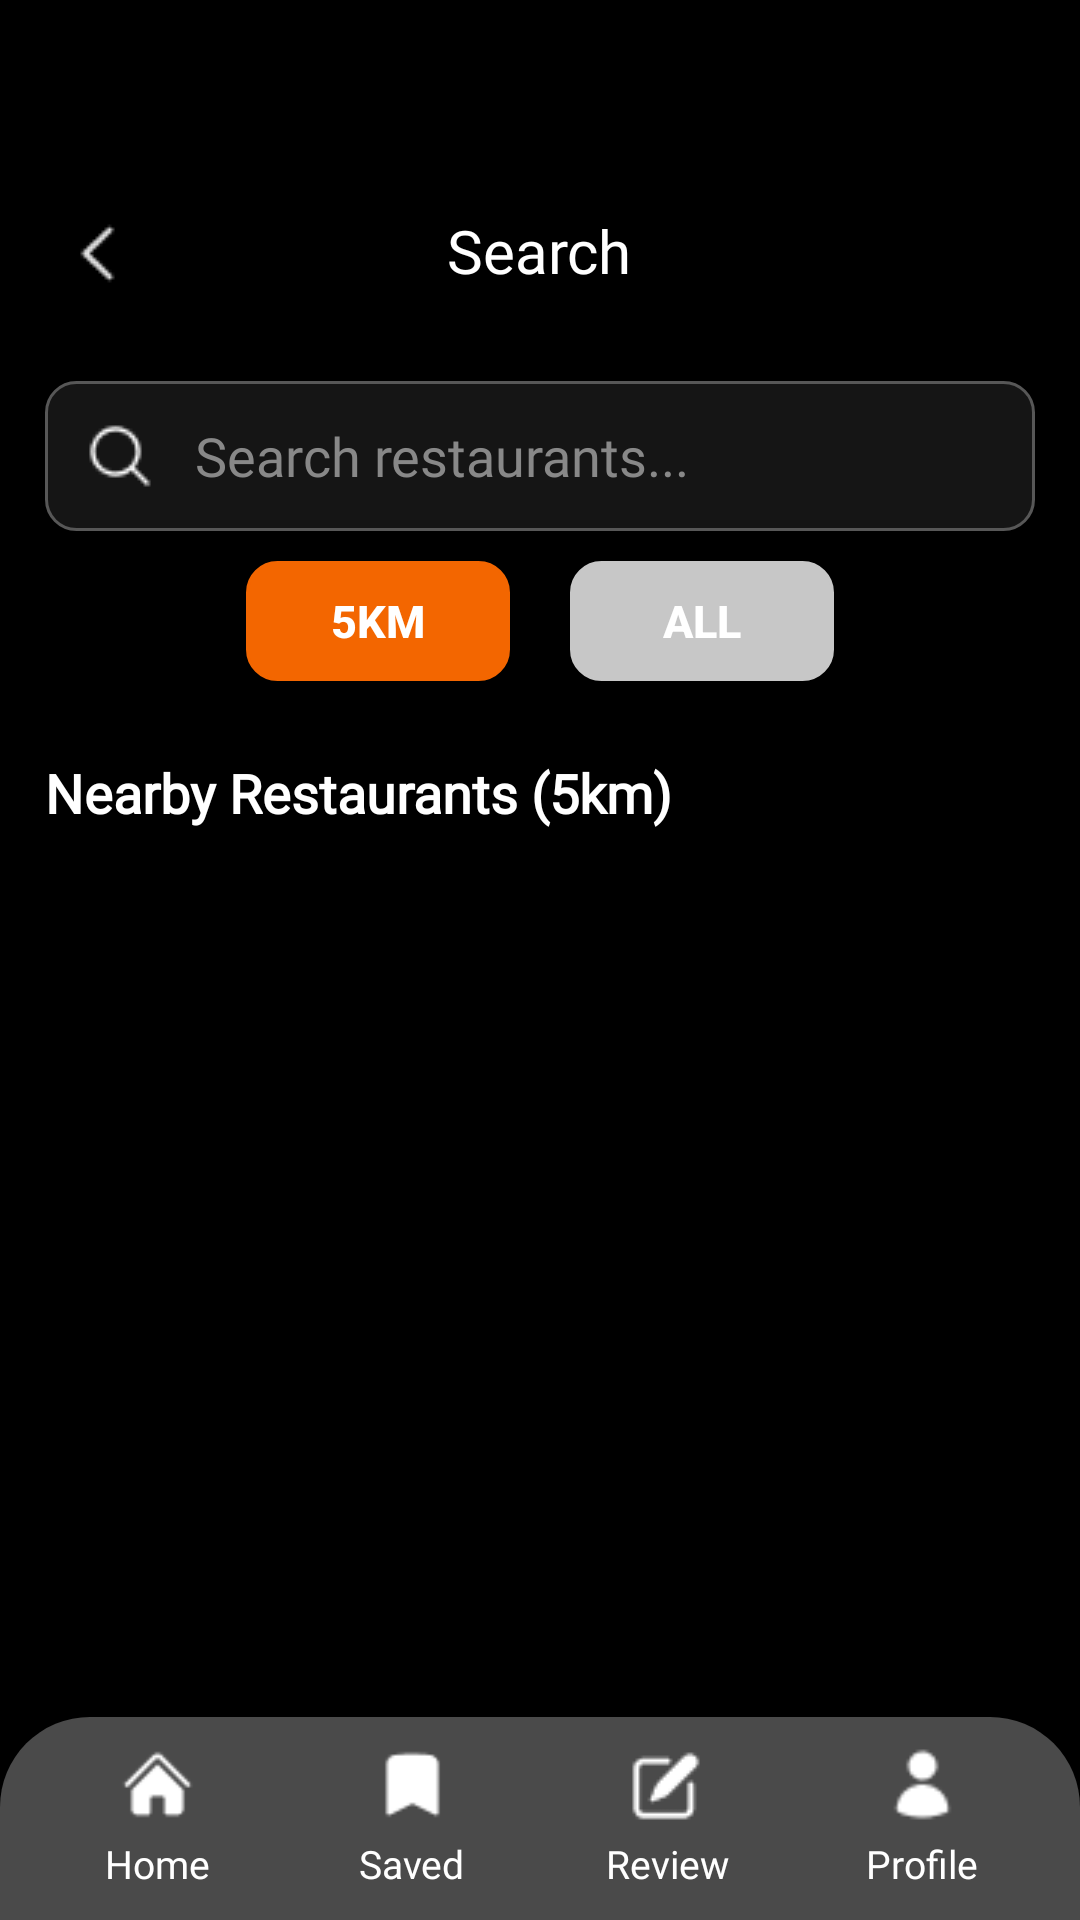

Screen size 1080 × 1920. Icon name, then its box in pixels as {"x1": x1, "y1": y1, "x2": x2, "y2": y2}:
chevron left: {"x1": 80, "y1": 225, "x2": 115, "y2": 282}
